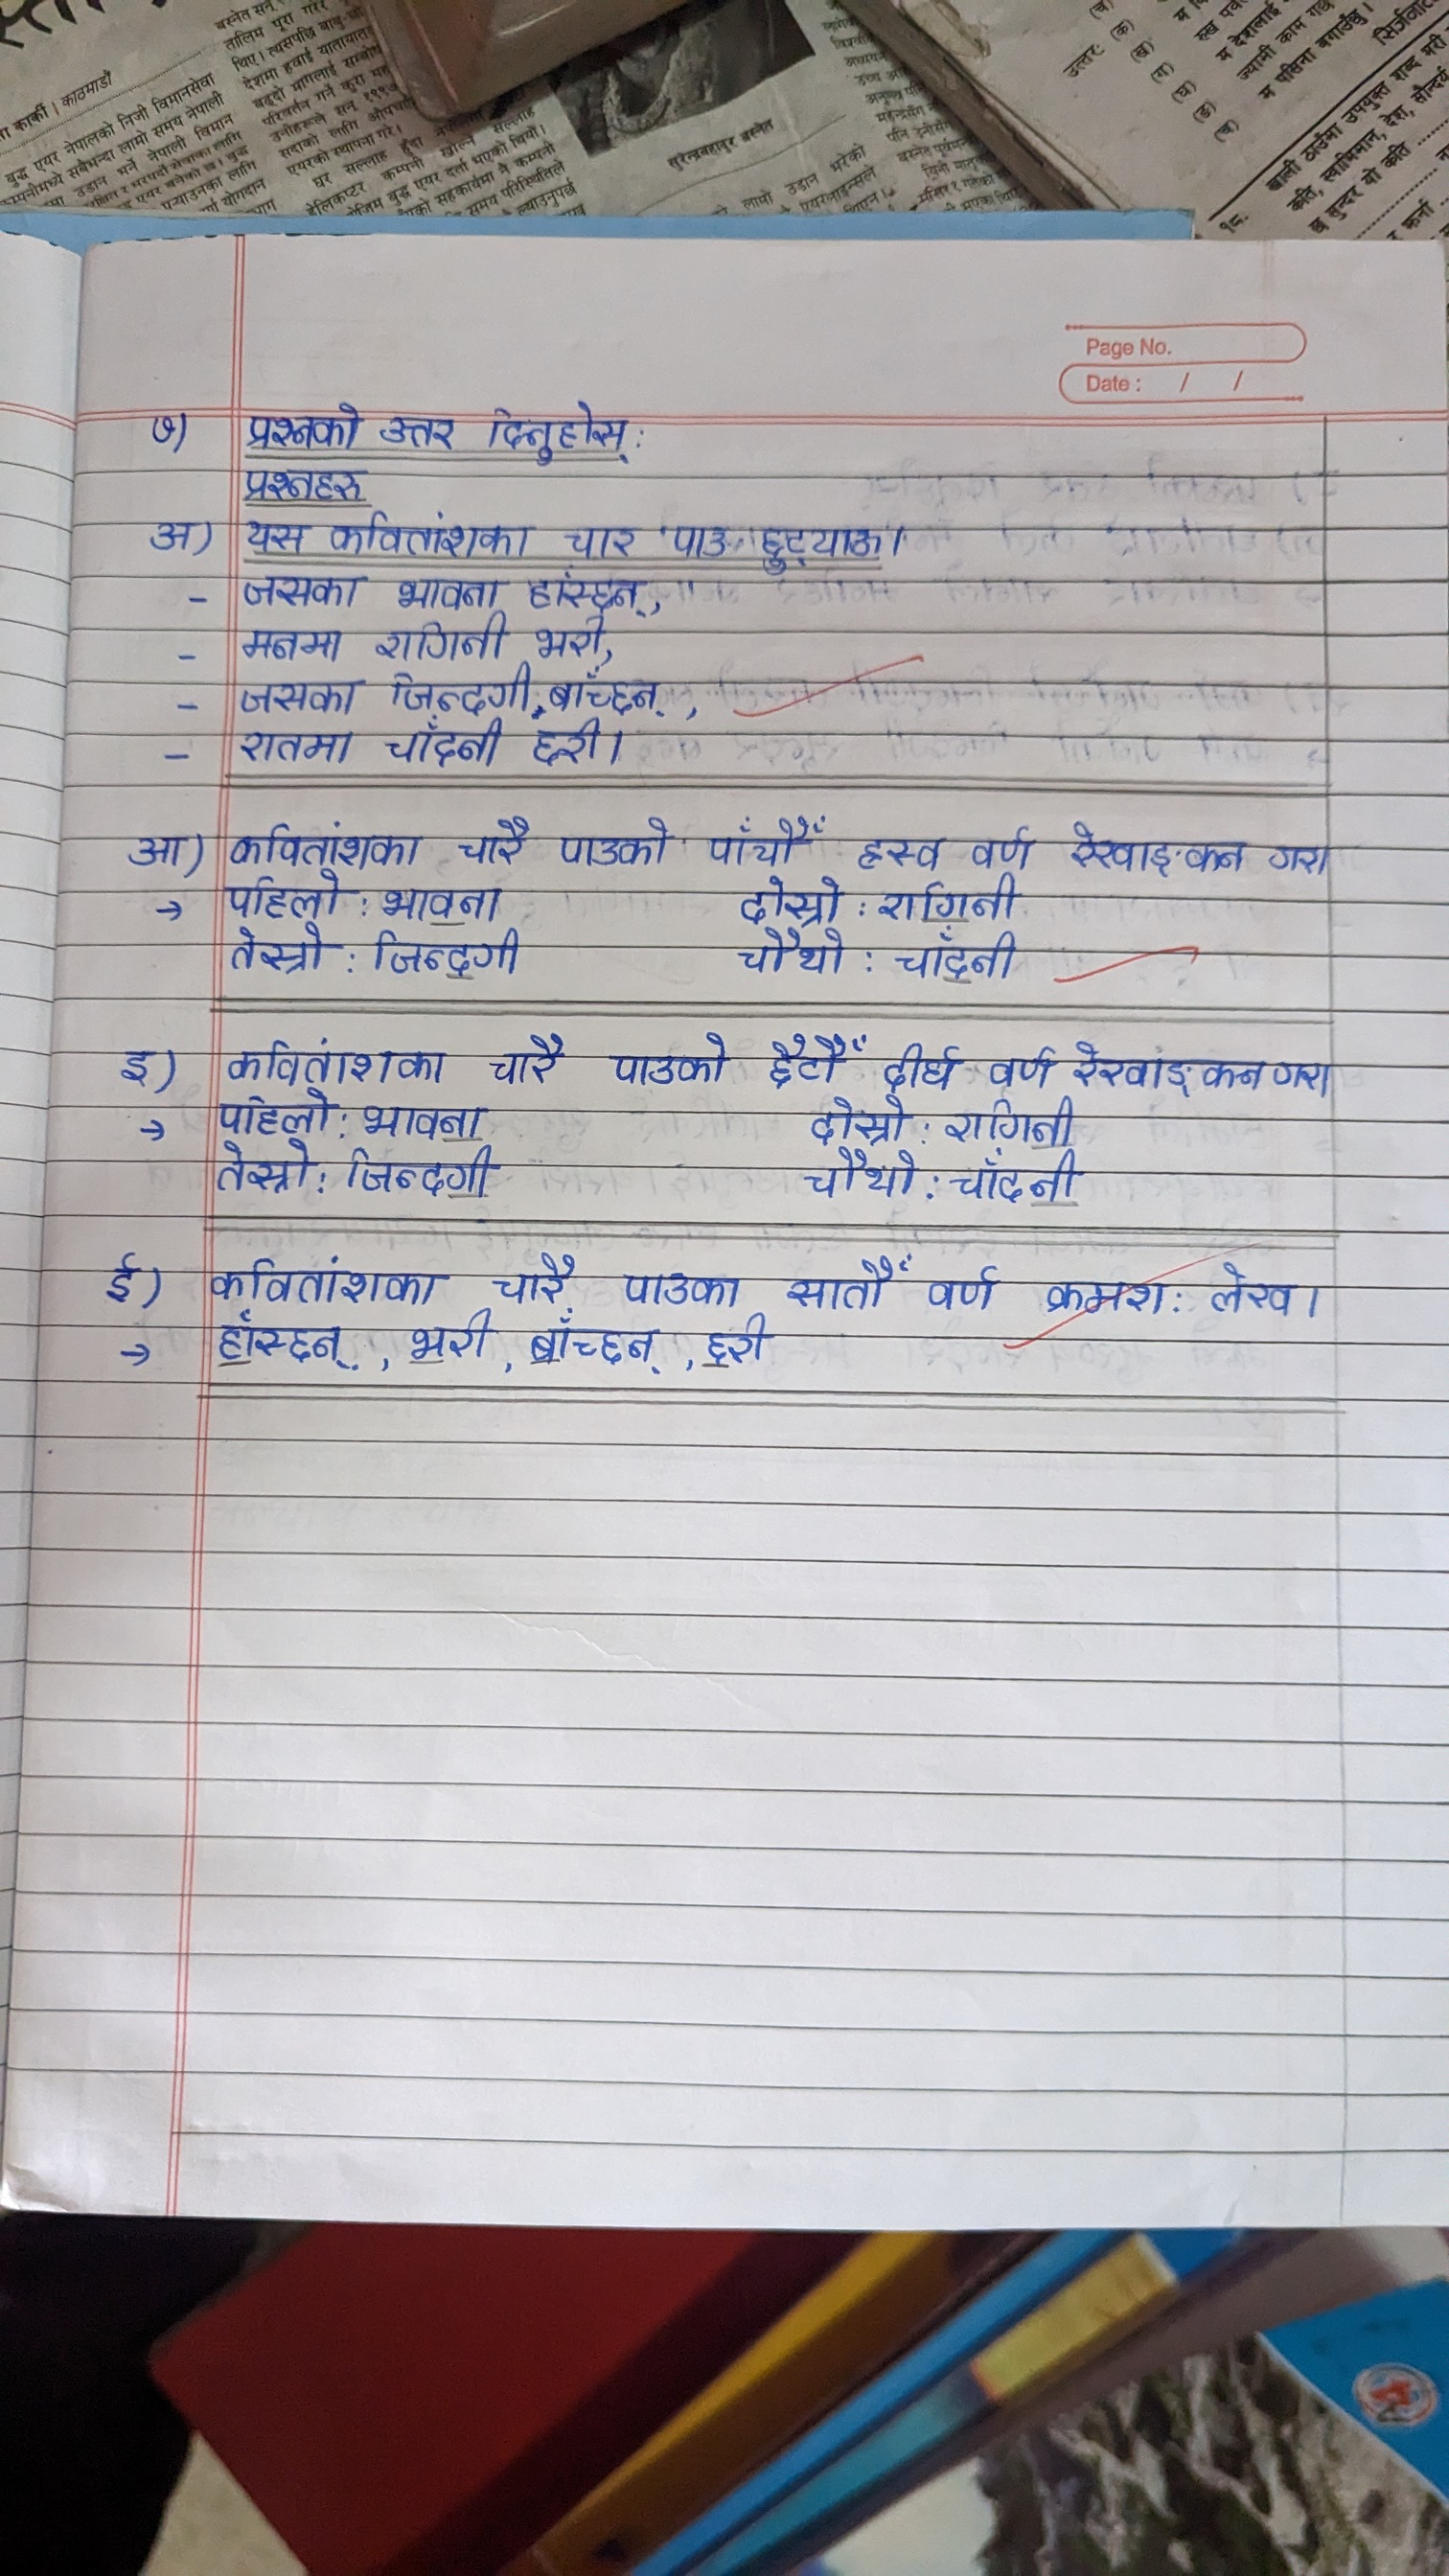text: (207, 1254, 449, 1309), (219, 1031, 448, 1085), (218, 816, 421, 869), (479, 398, 633, 465), (1072, 1042, 1267, 1095), (1062, 823, 1249, 878), (326, 511, 534, 557), (607, 1024, 741, 1093), (784, 1246, 911, 1318), (366, 927, 527, 984), (750, 511, 890, 573), (341, 1148, 502, 1201), (524, 1313, 665, 1373), (888, 929, 1028, 987), (947, 1148, 1086, 1207), (211, 1313, 361, 1366), (701, 801, 819, 865), (872, 874, 1019, 925), (727, 927, 862, 982), (1033, 1269, 1168, 1323), (557, 814, 674, 876), (934, 1099, 1085, 1146), (382, 665, 538, 711), (372, 616, 517, 663), (1194, 1258, 1307, 1318), (228, 398, 364, 448), (617, 1260, 750, 1309), (801, 1148, 922, 1201), (361, 1095, 492, 1143), (226, 925, 336, 982), (796, 1093, 915, 1145), (736, 872, 849, 925), (547, 667, 672, 715), (235, 568, 370, 612), (763, 1024, 862, 1083), (384, 718, 504, 766), (225, 870, 349, 916), (226, 676, 364, 717), (211, 1090, 336, 1134), (207, 1143, 313, 1194), (524, 570, 651, 612), (403, 1315, 497, 1371), (234, 619, 350, 662), (375, 881, 502, 920), (453, 812, 534, 872), (481, 1033, 573, 1086), (239, 465, 370, 502), (492, 1249, 580, 1304), (90, 1237, 154, 1311), (878, 1039, 964, 1092), (389, 573, 504, 612), (924, 1260, 1001, 1315), (853, 830, 952, 869), (964, 819, 1042, 869), (701, 1315, 768, 1371), (235, 731, 359, 761), (561, 511, 639, 559), (531, 718, 603, 768), (1270, 1049, 1343, 1097), (379, 409, 464, 449), (665, 513, 734, 563), (237, 515, 315, 557), (533, 614, 603, 660), (984, 1042, 1056, 1085), (1261, 832, 1329, 876), (131, 823, 186, 872), (111, 1037, 149, 1097), (147, 508, 198, 550), (147, 402, 180, 448)
